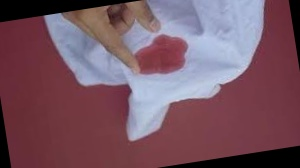blood: (135, 32, 192, 79)
